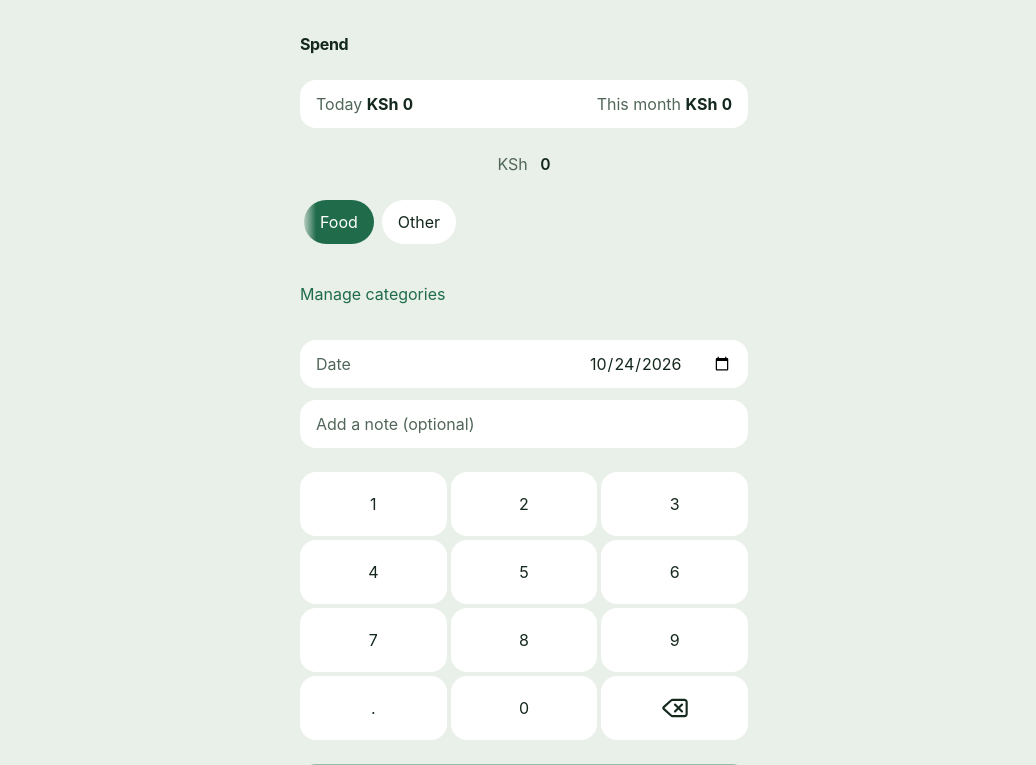
Test: SpendTab › adds an entry with its category, date, and optional note
Click the button "7" at (373, 640), box [300,608,447,672]
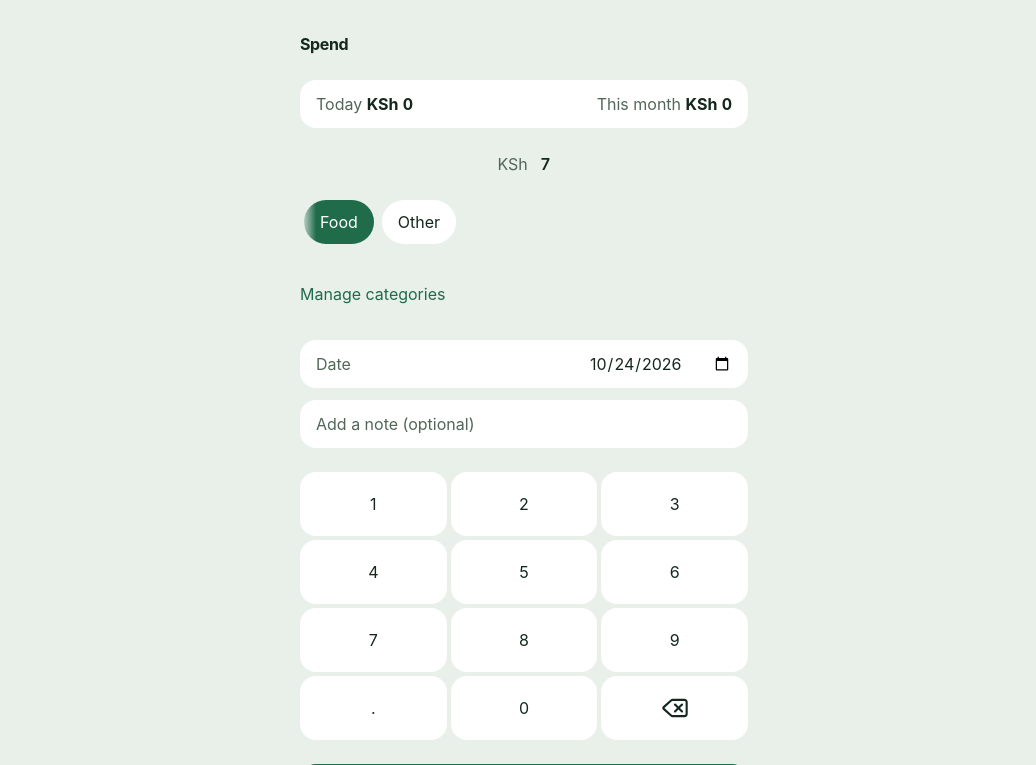
Click the button "Other" at (419, 222), box [382,200,456,244]
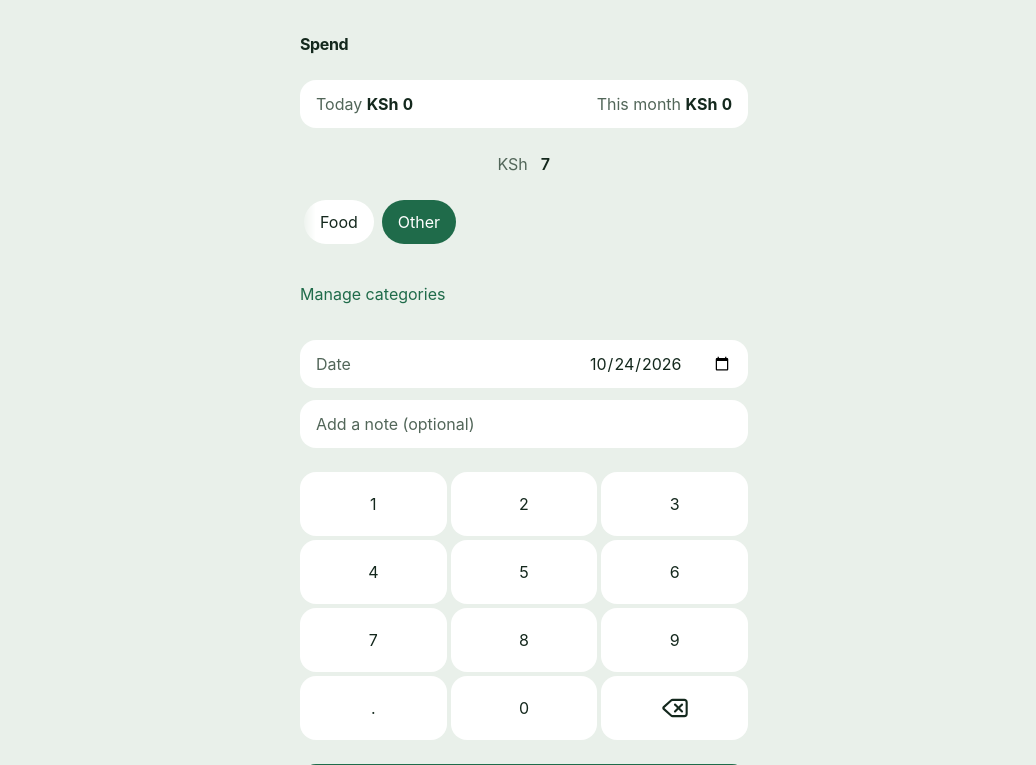
Type "2026-10-12" into the date field named "Spend date" at (660, 364), box [589,352,732,376]
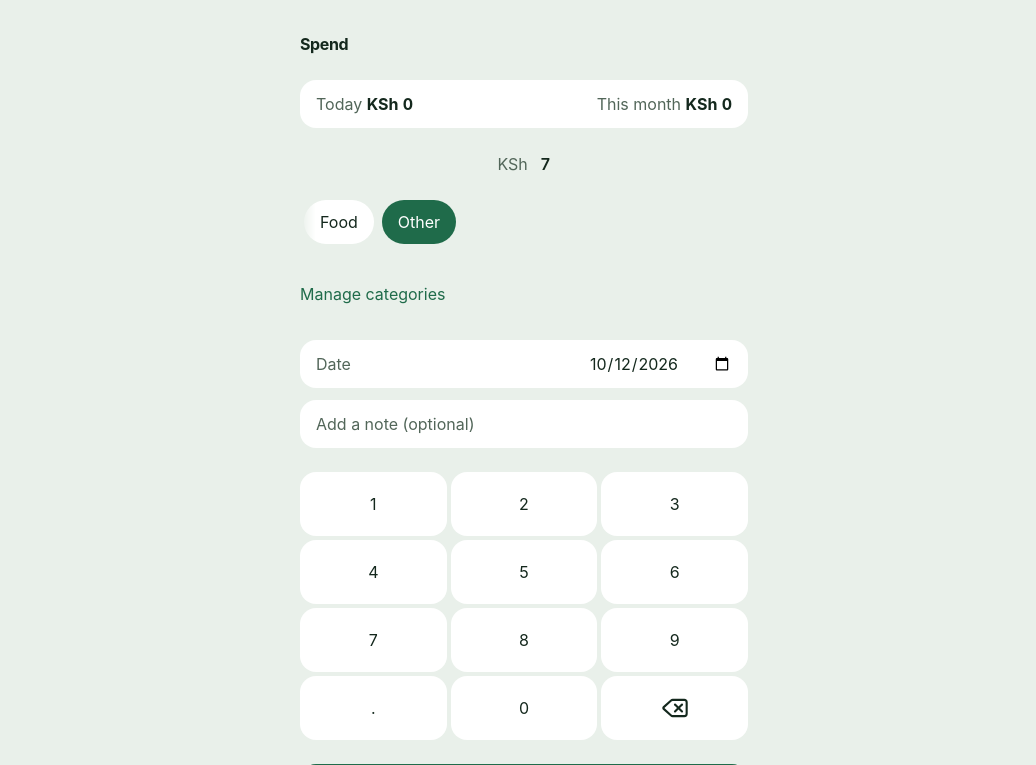
Type "Coffee" into the field labelled "note (optional)" at (524, 424), box [300,400,748,448]
(page scrolled)
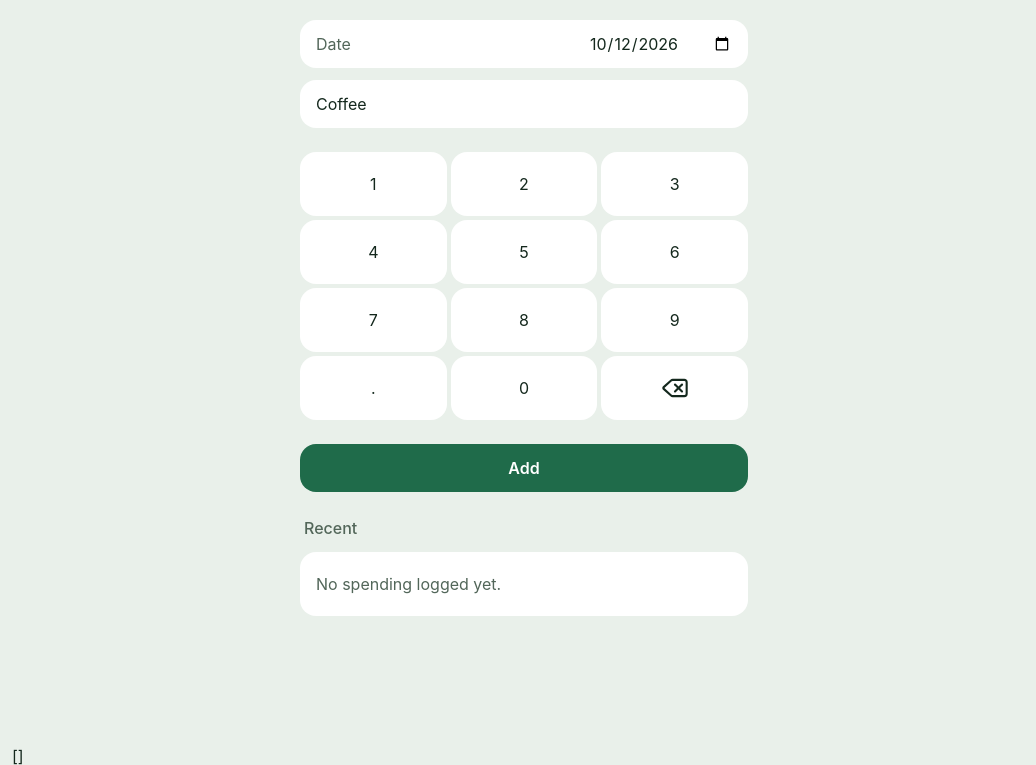
Click the button "Add" at (524, 468), box [300,444,748,492]
(page scrolled)
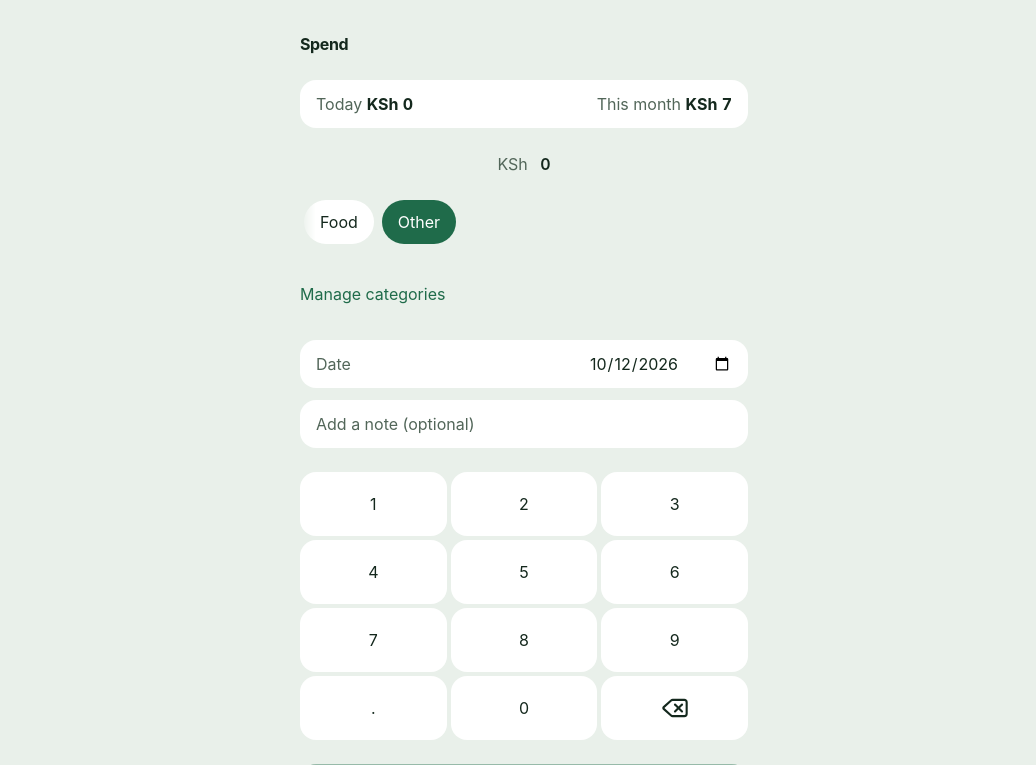
Now the message reads "KSh 0", box [498,154,550,174]
